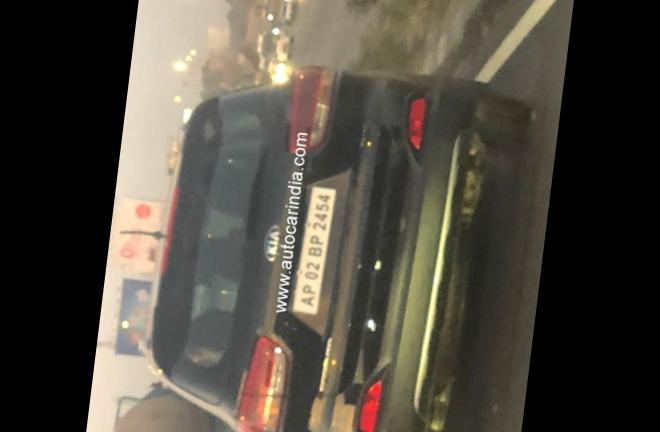plate: (280, 159, 348, 319)
